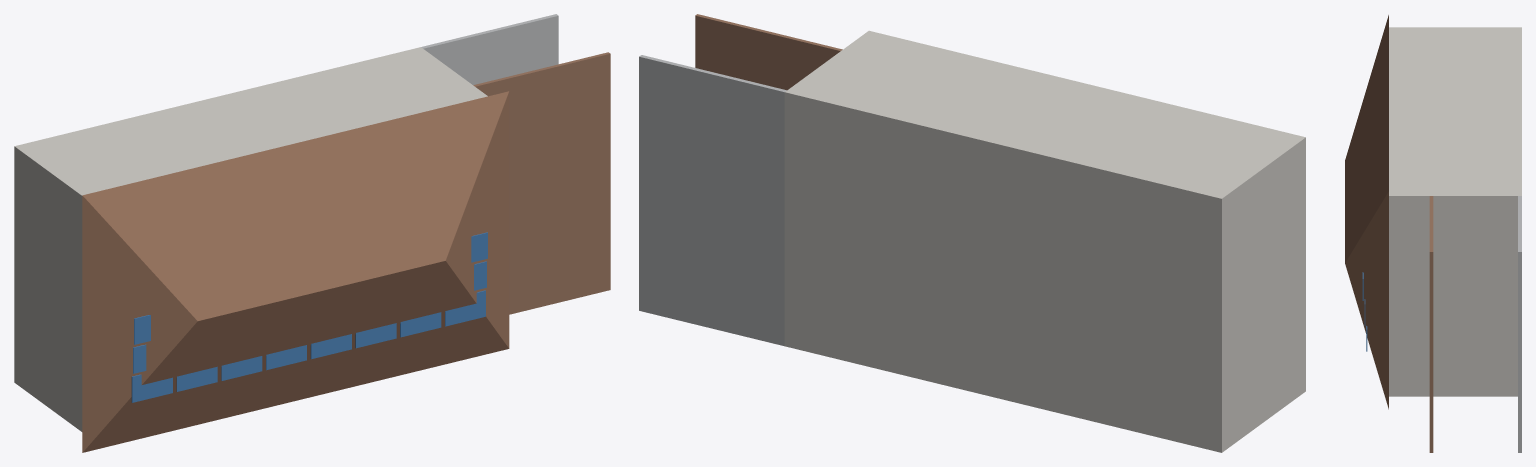
Rendered from generated_3a2f10198e.glb.
The picture shows the model from 3 angles, left to right: view 1: azimuth 30°, elevation 25°; view 2: azimuth 150°, elevation 25°; view 3: azimuth 270°, elevation 25°; orthographic projection. The views are drawn at different scales.
Visible parts, largest first — view 1: hip_roof, house_body, front_porch_roof, front_porch_slab, solar_panel, solar_panel_7, solar_panel_6, solar_panel_5, solar_panel_1, solar_panel_4, solar_panel_2, solar_panel_3; view 2: house_body, front_porch_slab, front_porch_roof; view 3: house_body, hip_roof, front_porch_roof, front_porch_slab.
Part boxes in pixels (x1,y1,x2,y2): hip_roof: [82, 91, 509, 452]; house_body: [14, 47, 487, 431]; front_porch_roof: [473, 52, 610, 314]; front_porch_slab: [421, 14, 558, 84]; solar_panel: [131, 374, 172, 402]; solar_panel_7: [445, 290, 485, 326]; solar_panel_6: [400, 312, 441, 337]; solar_panel_5: [355, 323, 396, 348]; solar_panel_1: [176, 366, 217, 391]; solar_panel_4: [310, 334, 351, 359]; solar_panel_2: [221, 356, 262, 380]; solar_panel_3: [266, 345, 306, 370]; house_body: [784, 30, 1305, 452]; front_porch_slab: [639, 55, 786, 346]; front_porch_roof: [695, 14, 842, 90]; house_body: [1389, 27, 1521, 396]; hip_roof: [1345, 15, 1388, 409]; front_porch_roof: [1429, 196, 1433, 452]; front_porch_slab: [1518, 196, 1521, 452].
Bounding box in the file's own units: 24.45 × 10.9 × 7.98.
